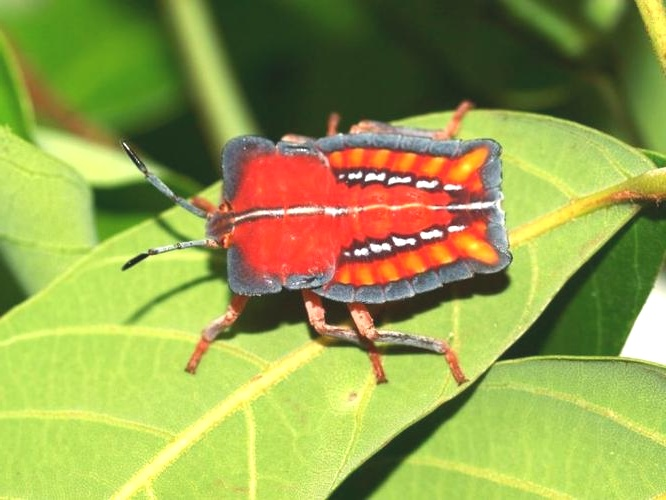Stink_Bug: (154, 147, 500, 334)
